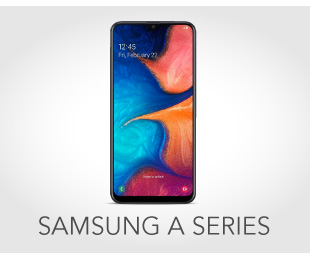Handphone: (108, 19, 199, 206)
